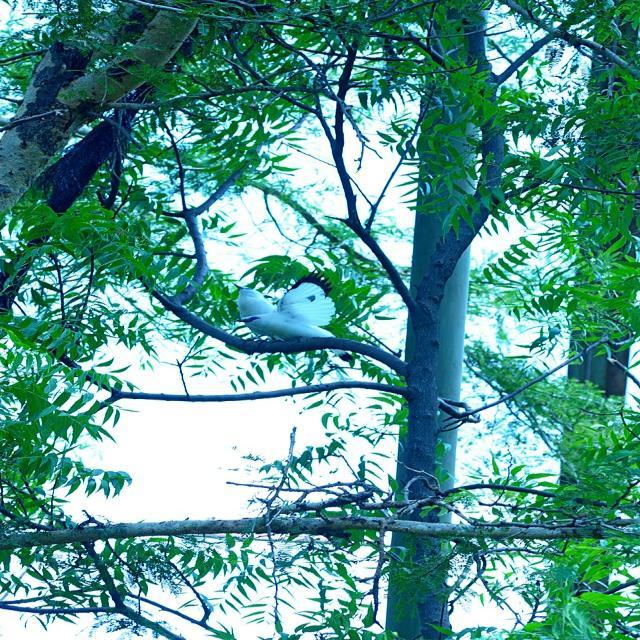Jalak Bali: (224, 268, 348, 354)
